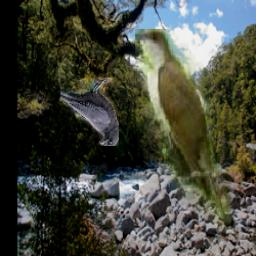Crow: (61, 79, 120, 147)
Cuckoo: (135, 29, 231, 247)
